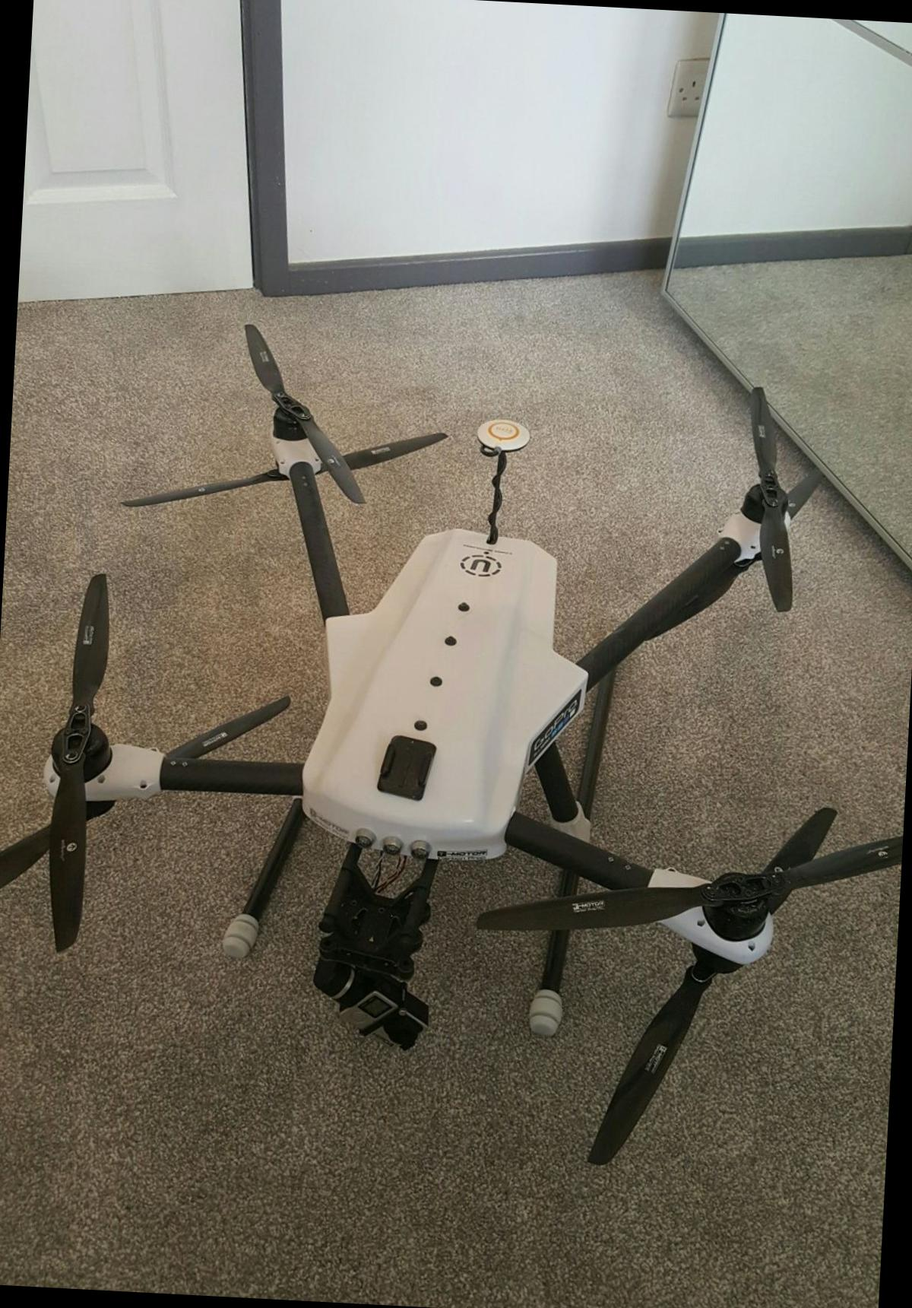drone: (11, 314, 912, 1121)
